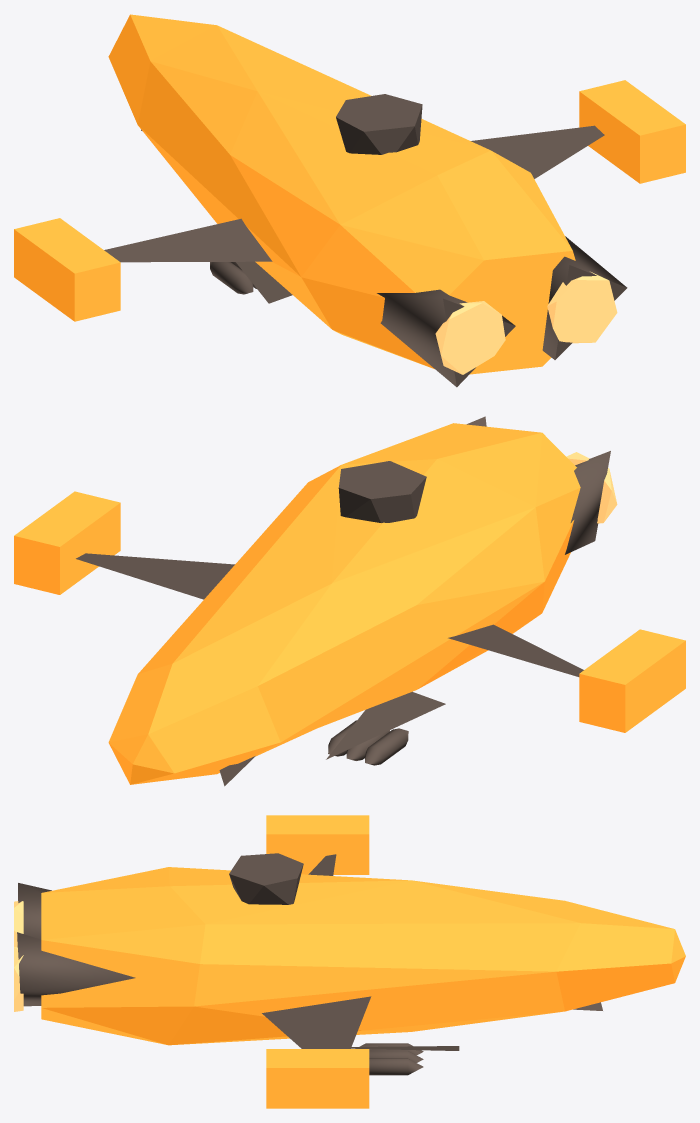
Rendered from fighter_bomber_lod1.glb.
3 renders of one model, top to bottom at view 1: azimuth 30°, elevation 25°; view 2: azimuth 150°, elevation 25°; view 3: azimuth 270°, elevation 25°, orthographic. The views are drawn at different scales.
Visible parts, largest first — view 1: Merged_BomberBody, Merged_BomberDark, Merged_BomberEngine, TurretNub; view 2: Merged_BomberBody, Merged_BomberDark, TurretNub, Merged_BomberEngine; view 3: Merged_BomberBody, Merged_BomberDark, TurretNub, Merged_BomberEngine.
Boxes of the visible parts, x1,y1,x2,y2 form: Merged_BomberBody: (14, 14, 685, 374); Merged_BomberDark: (104, 125, 627, 387); Merged_BomberEngine: (435, 271, 617, 374); TurretNub: (336, 94, 422, 154); Merged_BomberBody: (14, 423, 685, 784); Merged_BomberDark: (76, 416, 610, 786); TurretNub: (338, 461, 426, 522); Merged_BomberEngine: (566, 452, 617, 523); Merged_BomberBody: (41, 815, 685, 1108); Merged_BomberDark: (17, 854, 602, 1075); TurretNub: (229, 853, 303, 904); Merged_BomberEngine: (14, 901, 23, 1011).
Size of the model in its own units: 9.3 by 2.99 by 10.45.
